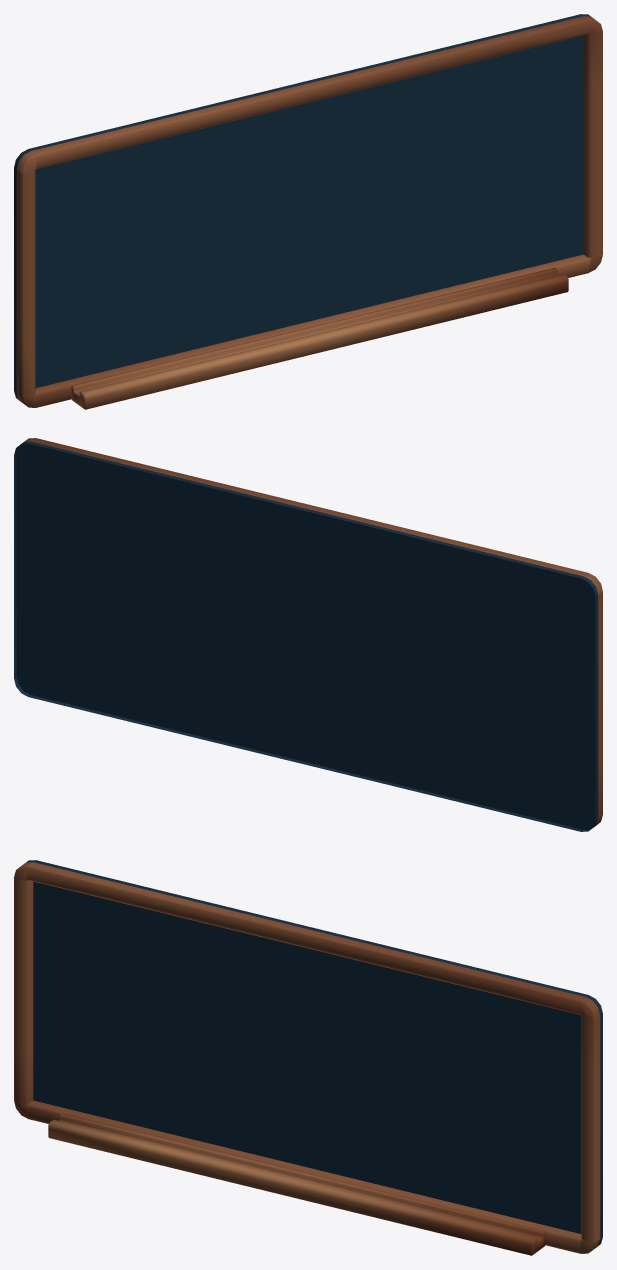
File: Blackboard.fbx
The picture shows the model from 3 angles, top to bottom: view 1: azimuth 30°, elevation 25°; view 2: azimuth 150°, elevation 25°; view 3: azimuth 330°, elevation 25°; orthographic projection.
Parts seen in each view (by area): view 1: Blackboard; view 2: Blackboard; view 3: Blackboard.
Boxes of the visible parts, x1,y1,x2,y2 form: Blackboard: (14,14,602,409); Blackboard: (14,438,602,831); Blackboard: (14,860,602,1255).
Size of the model in its own units: 1200 by 500 by 80.
